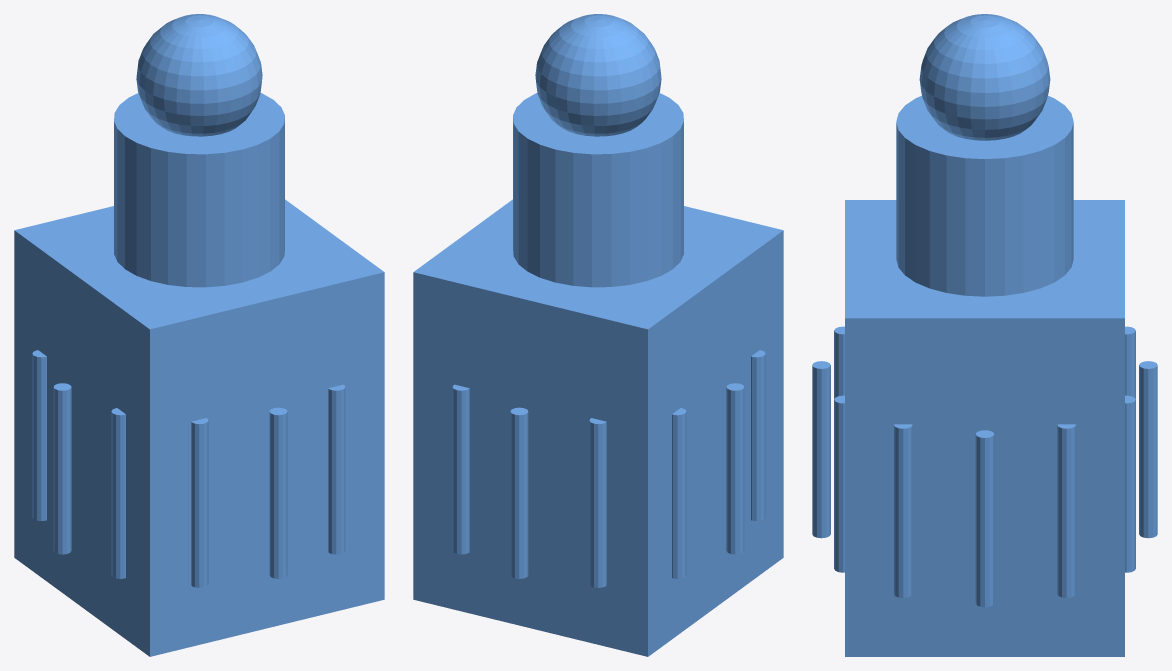
The picture shows the model from 3 angles, left to right: view 1: azimuth 30°, elevation 25°; view 2: azimuth 150°, elevation 25°; view 3: azimuth 270°, elevation 25°; orthographic projection. The views are drawn at different scales.
Parts seen in each view (by area): view 1: rep_guard_tower_sketchfab_001; view 2: rep_guard_tower_sketchfab_001; view 3: rep_guard_tower_sketchfab_001.
Boxes of the visible parts, x1,y1,x2,y2 form: rep_guard_tower_sketchfab_001: (14,14,384,656); rep_guard_tower_sketchfab_001: (413,14,783,656); rep_guard_tower_sketchfab_001: (812,14,1157,656).
Size of the model in its own units: 1.48 by 2.73 by 1.48.
